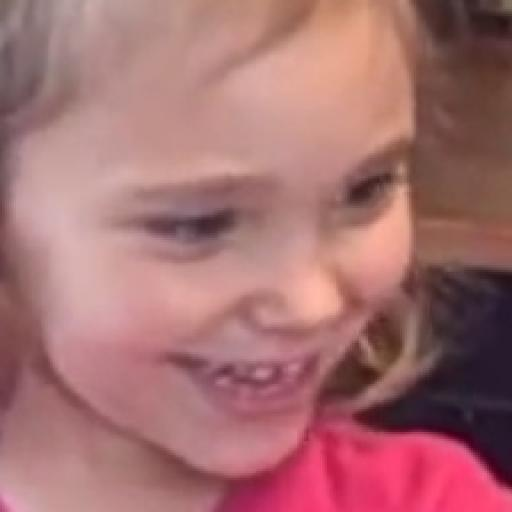Autism: (3, 0, 432, 512)
